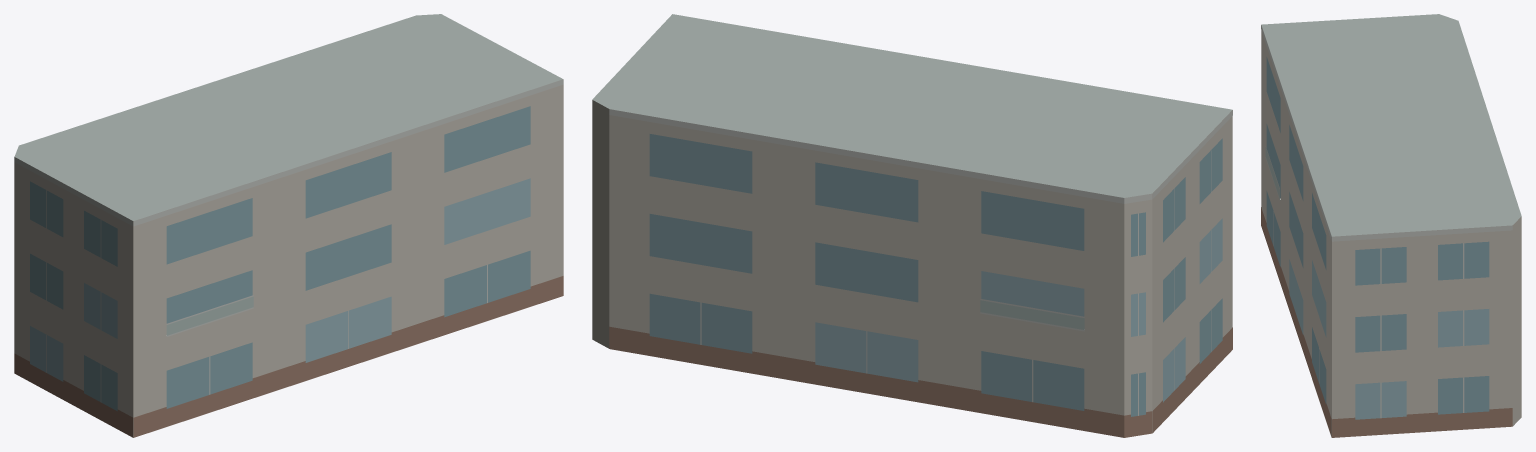
The model's file is survey-upis-32619561.glb.
3 renders of one model, left to right at view 1: azimuth 30°, elevation 25°; view 2: azimuth 150°, elevation 25°; view 3: azimuth 270°, elevation 25°, orthographic. The views are drawn at different scales.
Parts seen in each view (by area): view 1: survey-upis-32619561.tmp; view 2: survey-upis-32619561.tmp; view 3: survey-upis-32619561.tmp.
Part boxes in pixels (x1=…): survey-upis-32619561.tmp: x1=14, y1=14, x2=563, y2=437; survey-upis-32619561.tmp: x1=592, y1=14, x2=1232, y2=437; survey-upis-32619561.tmp: x1=1261, y1=14, x2=1521, y2=437.
Size of the model in its own units: 23.5 by 9.9 by 11.62.
